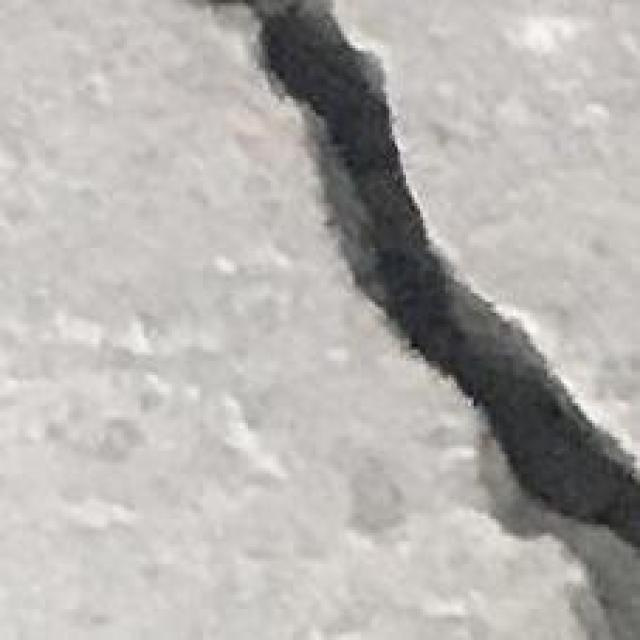Crack: (217, 3, 640, 634)
